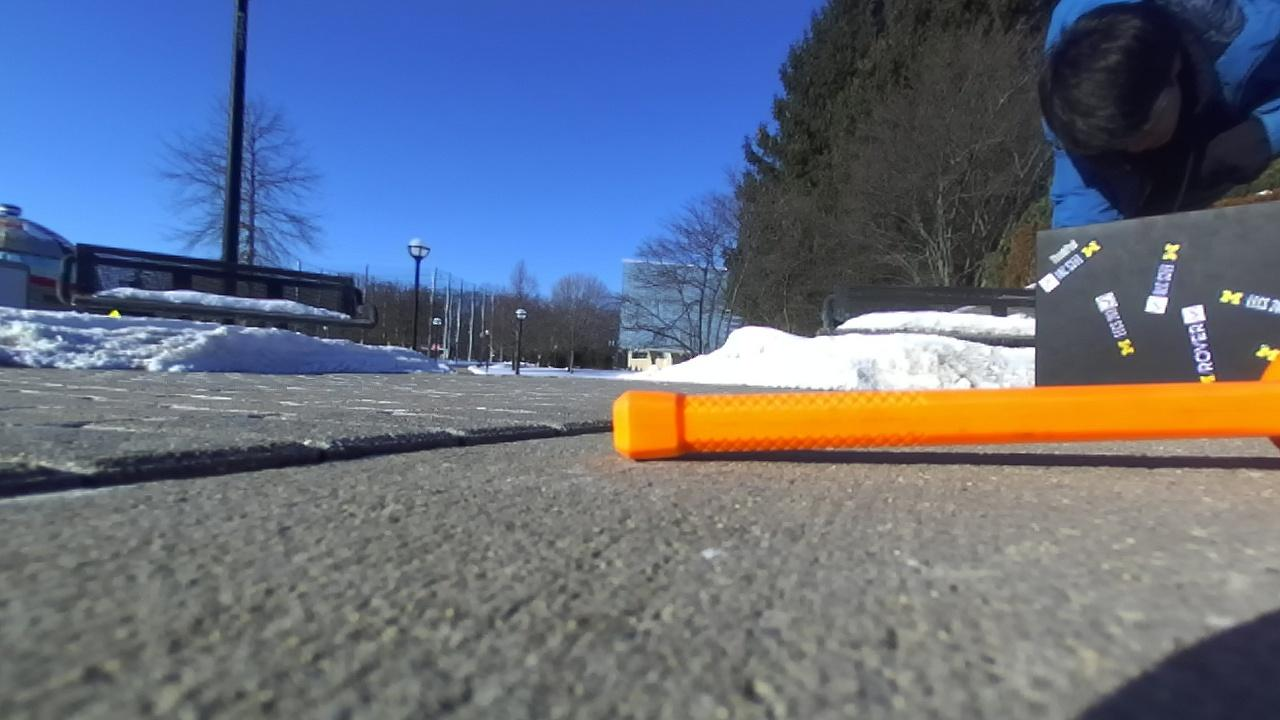mallet: (614, 370, 1279, 459)
